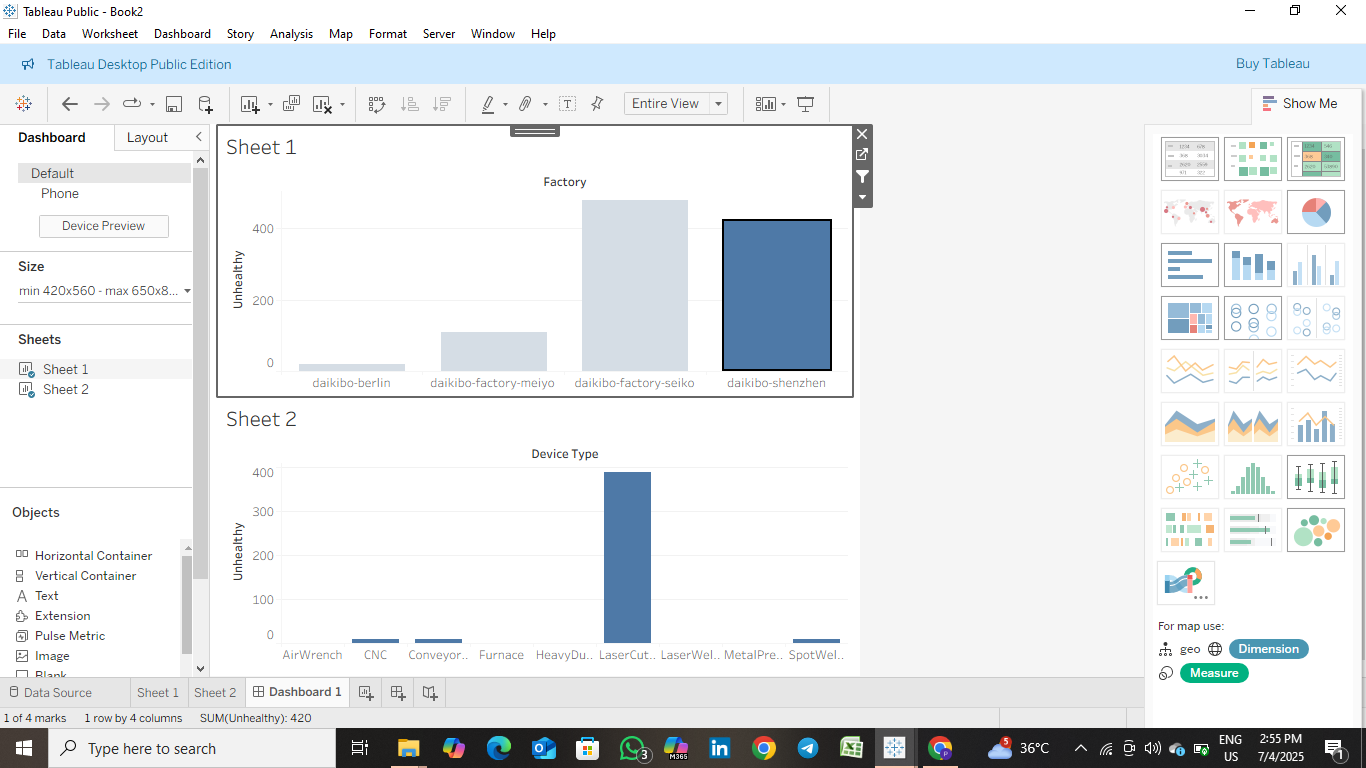

What the dashboard file says about the page in this screenshot:
{"tool":"tableau","page":{"name":"Dashboard 1","canvas":[650,860],"ordinal":0},"visuals":[{"type":"worksheet","title":"Sheet 1","mark":"Automatic","rows":["Calculation_493988611939008512"],"cols":["factory"],"box":[8,12.3,634,417.7]},{"type":"worksheet","title":"Sheet 2","mark":"Automatic","rows":["Calculation_493988611939008512"],"cols":["deviceType"],"box":[8,430,634,417.7]}]}

Visuals, with their boxes on the page's 650x860 design canvas (x1, y1, x2, y2). These are canvas units, not pixel positions in the 1366x768 screenshot, which may show the page scaled, cropped or inside an application window:
"Sheet 1" worksheet: (x1=8, y1=12, x2=642, y2=430)
"Sheet 2" worksheet: (x1=8, y1=430, x2=642, y2=848)
